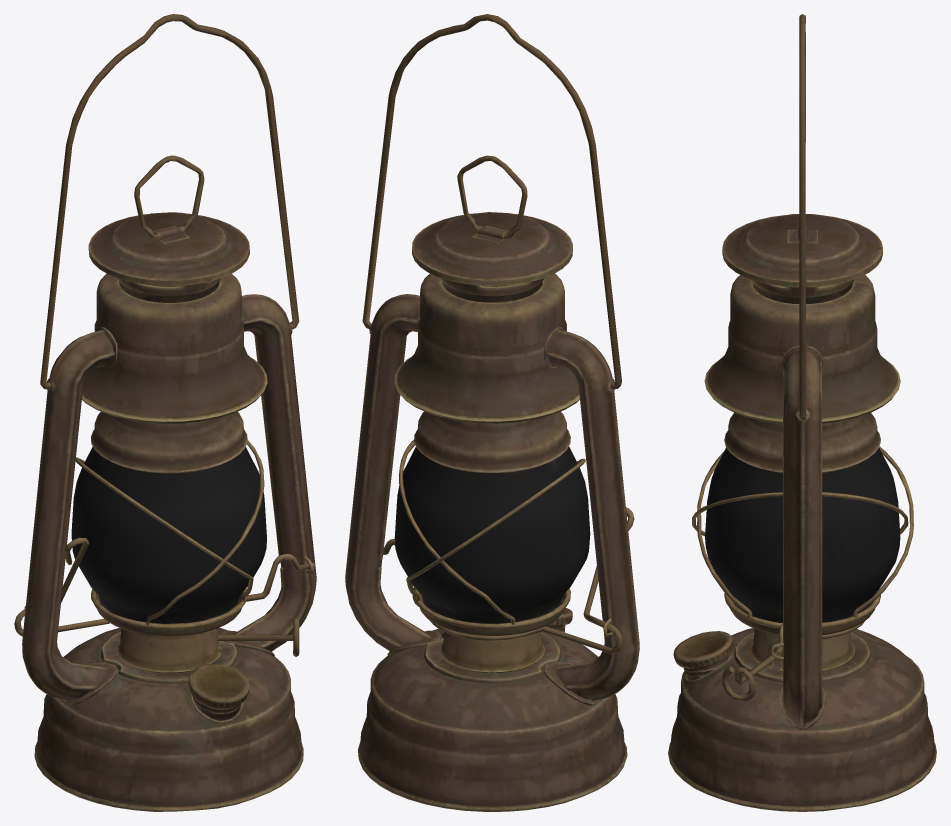
File: Lantern_01.glb
3 renders of one model, left to right at view 1: azimuth 30°, elevation 25°; view 2: azimuth 150°, elevation 25°; view 3: azimuth 270°, elevation 25°, orthographic.
Visible parts, largest first — view 1: Lantern_01, Lantern_01_glass; view 2: Lantern_01, Lantern_01_glass; view 3: Lantern_01, Lantern_01_glass.
Boxes of the visible parts, x1=… form: Lantern_01: x1=14, y1=14, x2=316, y2=811; Lantern_01_glass: x1=71, y1=446, x2=266, y2=623; Lantern_01: x1=345, y1=14, x2=639, y2=811; Lantern_01_glass: x1=394, y1=446, x2=590, y2=623; Lantern_01: x1=668, y1=14, x2=936, y2=811; Lantern_01_glass: x1=705, y1=447, x2=900, y2=622.
Size of the model in its own units: 0.1221 by 0.2942 by 0.0971.
Materials: 2 (2 with a texture image).
